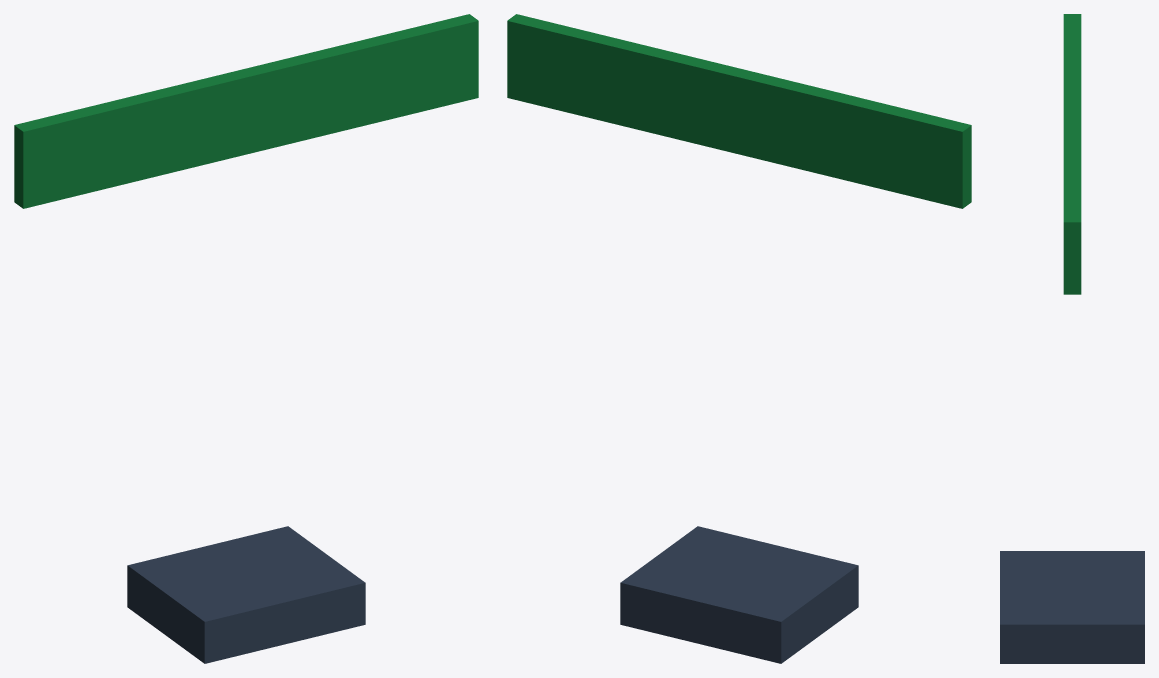
The model's file is groceries.glb.
The picture shows the model from 3 angles, left to right: view 1: azimuth 30°, elevation 25°; view 2: azimuth 150°, elevation 25°; view 3: azimuth 270°, elevation 25°; orthographic projection. The views are drawn at different scales.
Parts seen in each view (by area): view 1: Sign_Board, Endcap_Base; view 2: Sign_Board, Endcap_Base; view 3: Endcap_Base, Sign_Board.
Part boxes in pixels (x1,y1,x2,y2): Sign_Board: (14,14,478,208); Endcap_Base: (127,526,365,663); Sign_Board: (507,14,971,208); Endcap_Base: (620,526,858,663); Endcap_Base: (1000,551,1144,663); Sign_Board: (1063,14,1081,294).
Size of the model in its own units: 3.4 by 3.88 by 1.
